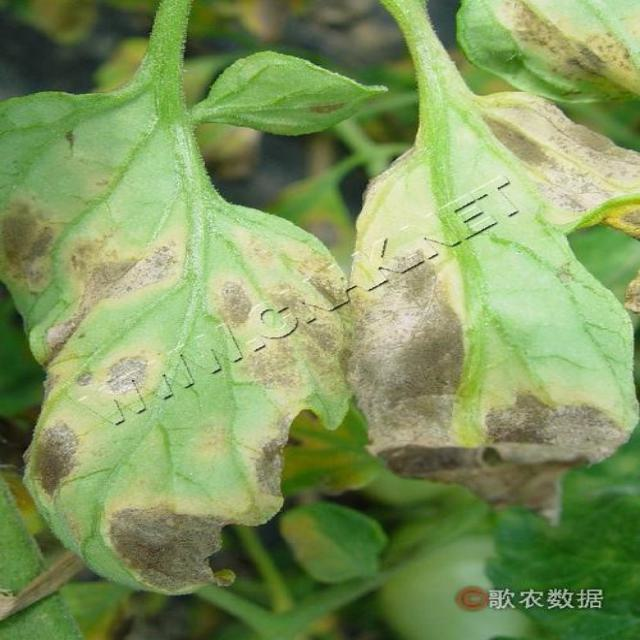Leaf_Mold: (341, 157, 639, 528), (1, 186, 184, 403), (212, 228, 349, 428), (478, 95, 640, 240), (77, 489, 285, 597), (498, 1, 640, 95), (247, 403, 310, 510), (19, 412, 91, 502)
